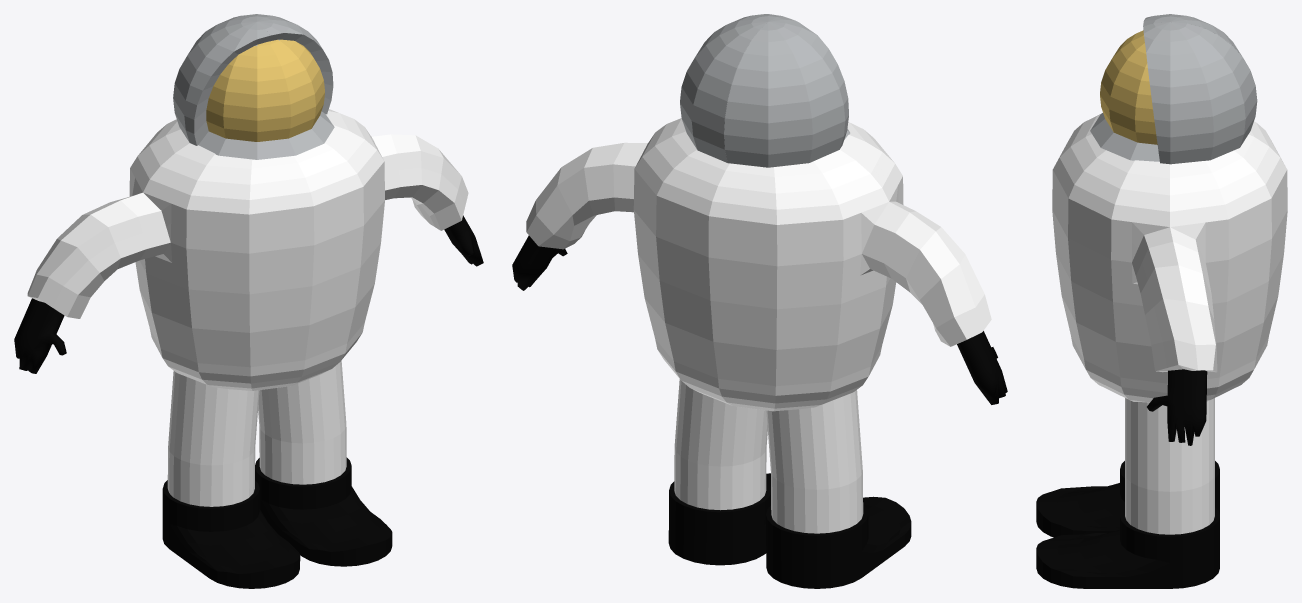
Rendered from astronautv1.1.glb.
The picture shows the model from 3 angles, left to right: view 1: azimuth 30°, elevation 25°; view 2: azimuth 150°, elevation 25°; view 3: azimuth 270°, elevation 25°; orthographic projection. The views are drawn at different scales.
Parts seen in each view (by area): view 1: Sphere.004, Cylinder.003, Cylinder.002, Cube.006, Cube.005, Sphere.003; view 2: Sphere.004, Cylinder.003, Cube.006, Cylinder.002, Sphere.003; view 3: Sphere.004, Cube.006, Cylinder.002, Cylinder.003, Cube.005, Sphere.003.
Boxes of the visible parts, <box> form: Sphere.004: <box>27,109,468,390</box>; Cylinder.003: <box>167,360,346,506</box>; Cylinder.002: <box>162,457,392,588</box>; Cube.006: <box>173,14,334,159</box>; Cube.005: <box>206,39,324,141</box>; Sphere.003: <box>14,215,483,373</box>; Sphere.004: <box>526,118,991,411</box>; Cylinder.003: <box>674,379,863,533</box>; Cube.006: <box>680,14,850,167</box>; Cylinder.002: <box>668,473,911,588</box>; Sphere.003: <box>512,235,1007,404</box>; Sphere.004: <box>1052,114,1287,402</box>; Cube.006: <box>1090,14,1257,164</box>; Cylinder.002: <box>1036,461,1219,588</box>; Cylinder.003: <box>1125,398,1214,534</box>; Cube.005: <box>1100,30,1157,144</box>; Sphere.003: <box>1147,369,1207,445</box>.
Bounding box in the file's own units: 7.85 × 8.22 × 3.59.
